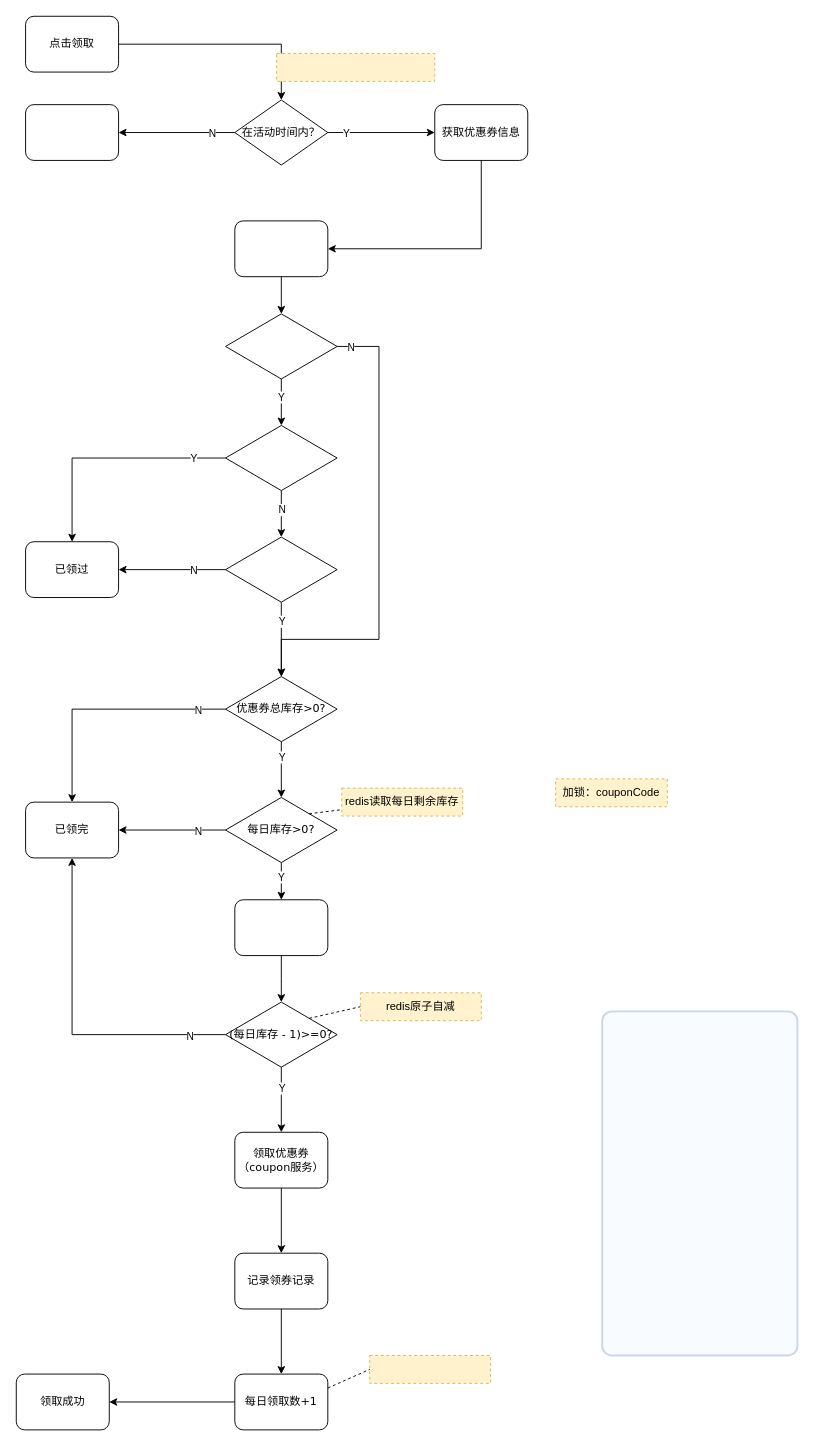
This 815x1446 diagram has some shape labels left out. The shapes that lost their labels are listed below. From the top down, each one's centre as x and y in pixels, then its label:
At point 355,67: "幂等处理memberId+couponCode".
At point 72,132: "活动结束页".
At point 281,248: "查询会员领券记录".
At point 281,346: "是否领取?".
At point 281,458: "是否已消费？".
At point 281,569: "是否已过期？".
At point 281,927: "风控处理".
At point 430,1369: "redis原子自增".
